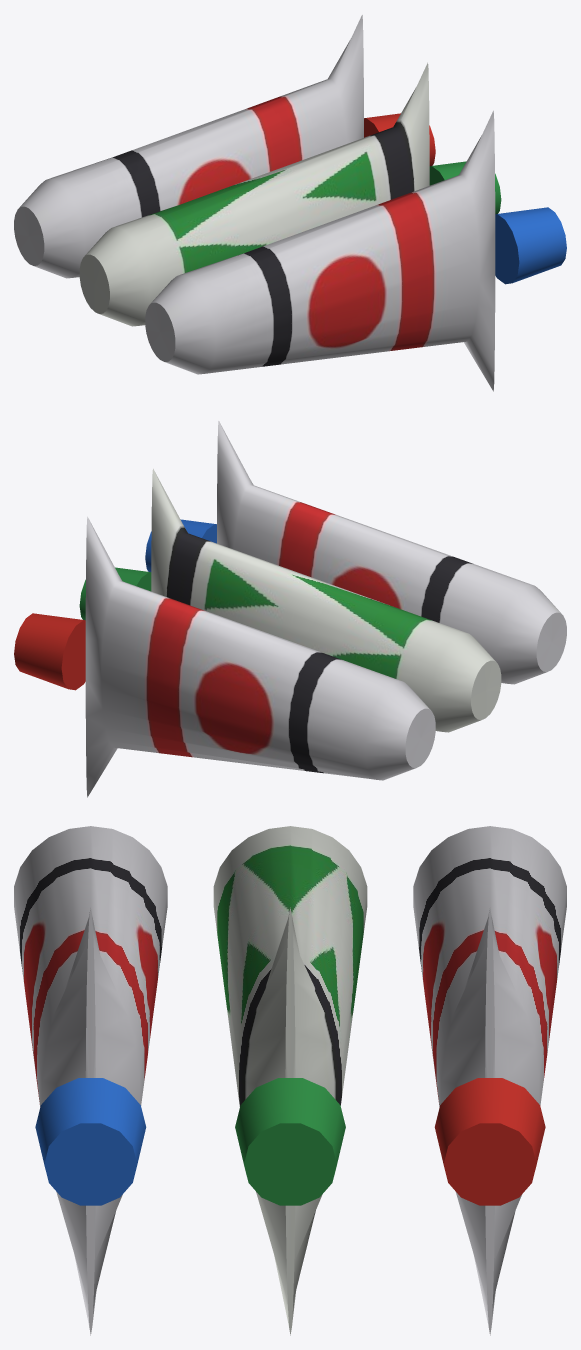
File: ration_nutrient_tubes_set.glb
The picture shows the model from 3 angles, top to bottom: view 1: azimuth 30°, elevation 25°; view 2: azimuth 150°, elevation 25°; view 3: azimuth 270°, elevation 25°; orthographic projection. The views are drawn at different scales.
Visible parts, largest first — view 1: ration_nutrient_tubes_set; view 2: ration_nutrient_tubes_set; view 3: ration_nutrient_tubes_set.
Boxes of the visible parts, bbox=[...] form: ration_nutrient_tubes_set: bbox=[14, 15, 566, 391]; ration_nutrient_tubes_set: bbox=[14, 421, 566, 797]; ration_nutrient_tubes_set: bbox=[14, 826, 566, 1335].
Bounding box in the file's own units: 0.155 × 0.1067 × 0.1246.
Materials: 5 (2 with a texture image).
